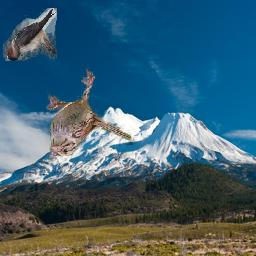Sparrow: (46, 68, 132, 157)
Swallow: (3, 9, 57, 62)
